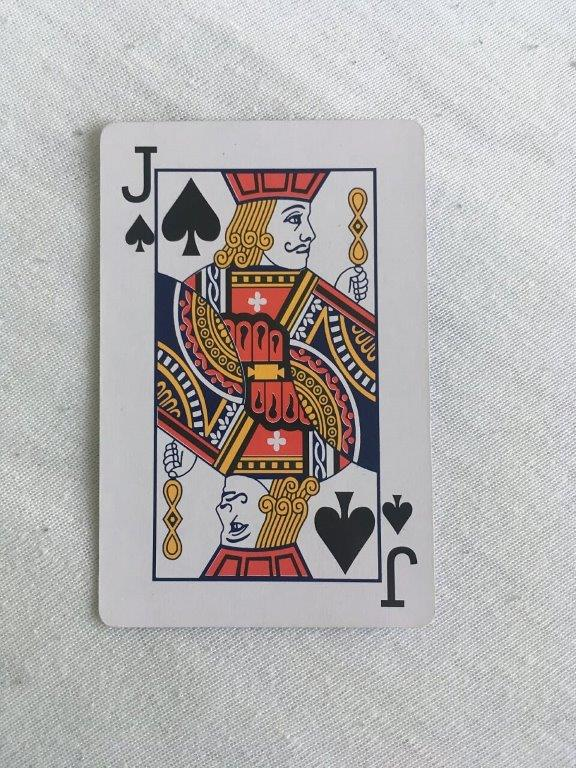JS: (94, 116, 440, 633)
